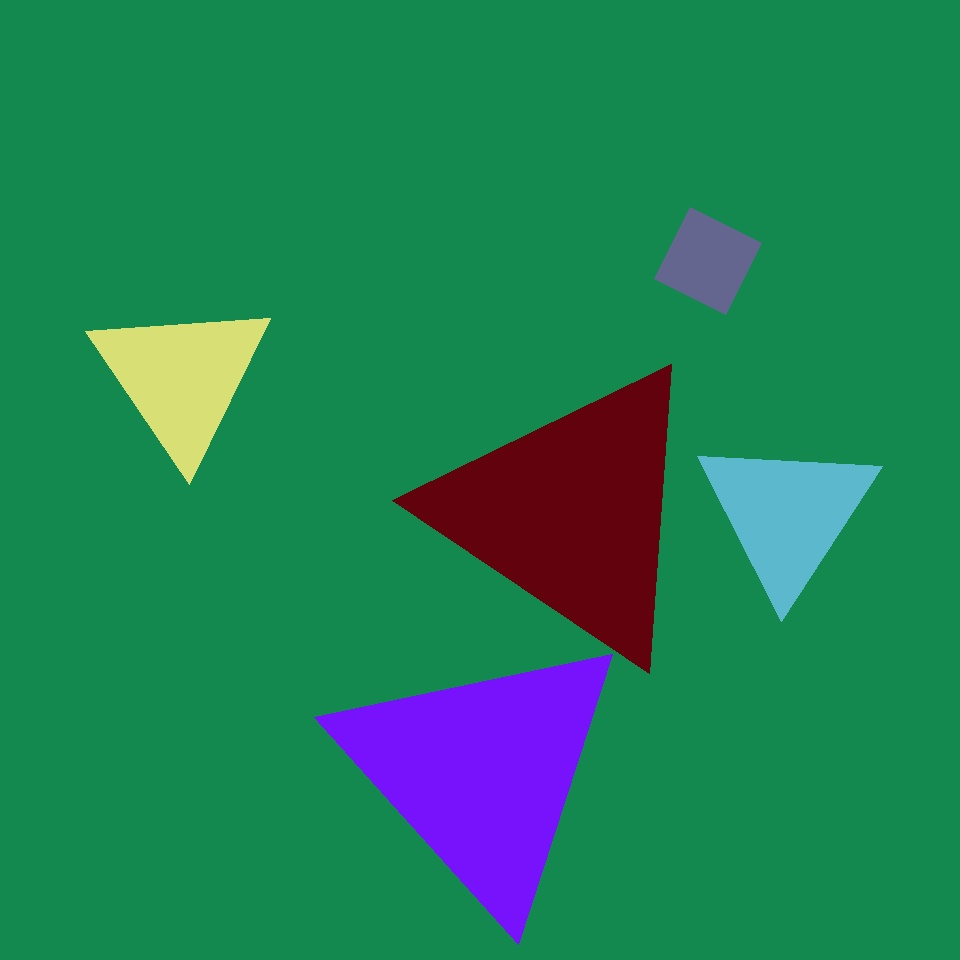circle: (333, 627, 631, 917), (432, 359, 711, 668), (540, 259, 778, 513), (89, 295, 274, 461), (695, 433, 880, 598), (204, 642, 379, 798), (718, 79, 799, 159)
square: (654, 207, 762, 314)
triangle: (14, 195, 350, 531), (596, 187, 871, 462), (112, 466, 352, 706)
